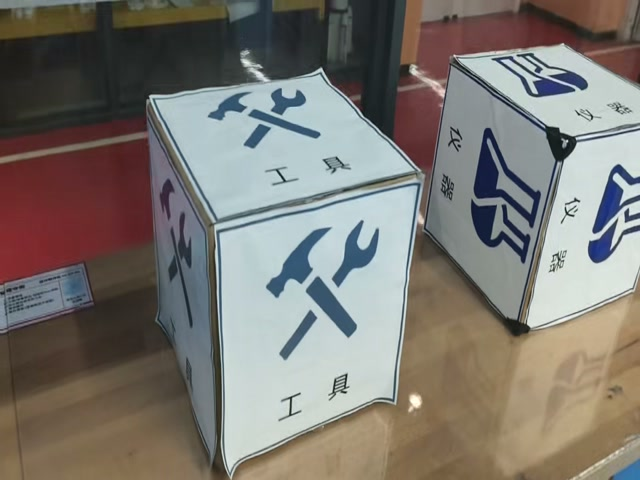Cube_ins: (448, 44, 640, 139)
Cube_tool: (150, 73, 417, 216)
